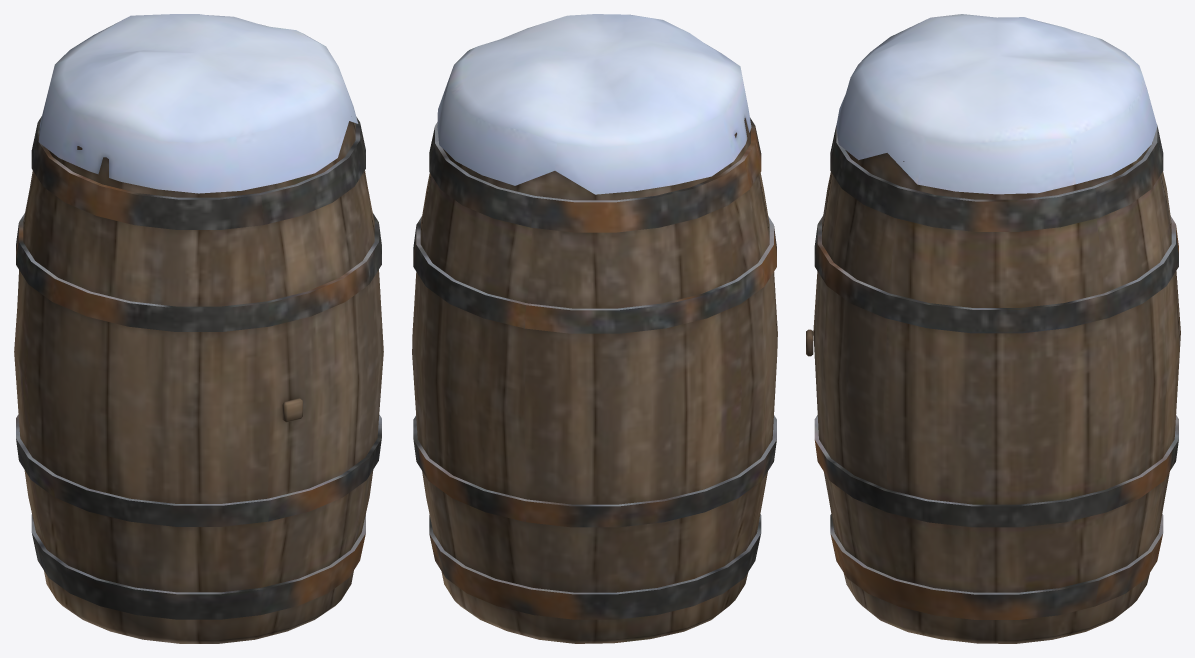
Rendered from fm_barrel_snow.glb.
The picture shows the model from 3 angles, left to right: view 1: azimuth 30°, elevation 25°; view 2: azimuth 150°, elevation 25°; view 3: azimuth 270°, elevation 25°; orthographic projection.
Parts seen in each view (by area): view 1: fm_barrel_snow; view 2: fm_barrel_snow; view 3: fm_barrel_snow.
Boxes of the visible parts, box(x1,y1,x2,y2) form: fm_barrel_snow: box(14, 14, 383, 643); fm_barrel_snow: box(412, 14, 777, 643); fm_barrel_snow: box(806, 14, 1180, 643).
Bounding box in the file's own units: 0.5963 × 0.9577 × 0.6092.
2 materials, 2 textured.
